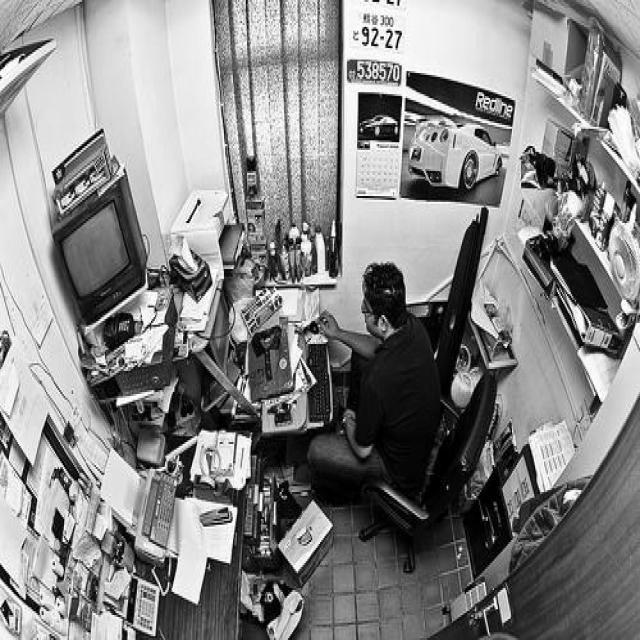vehicle: (409, 117, 503, 190)
